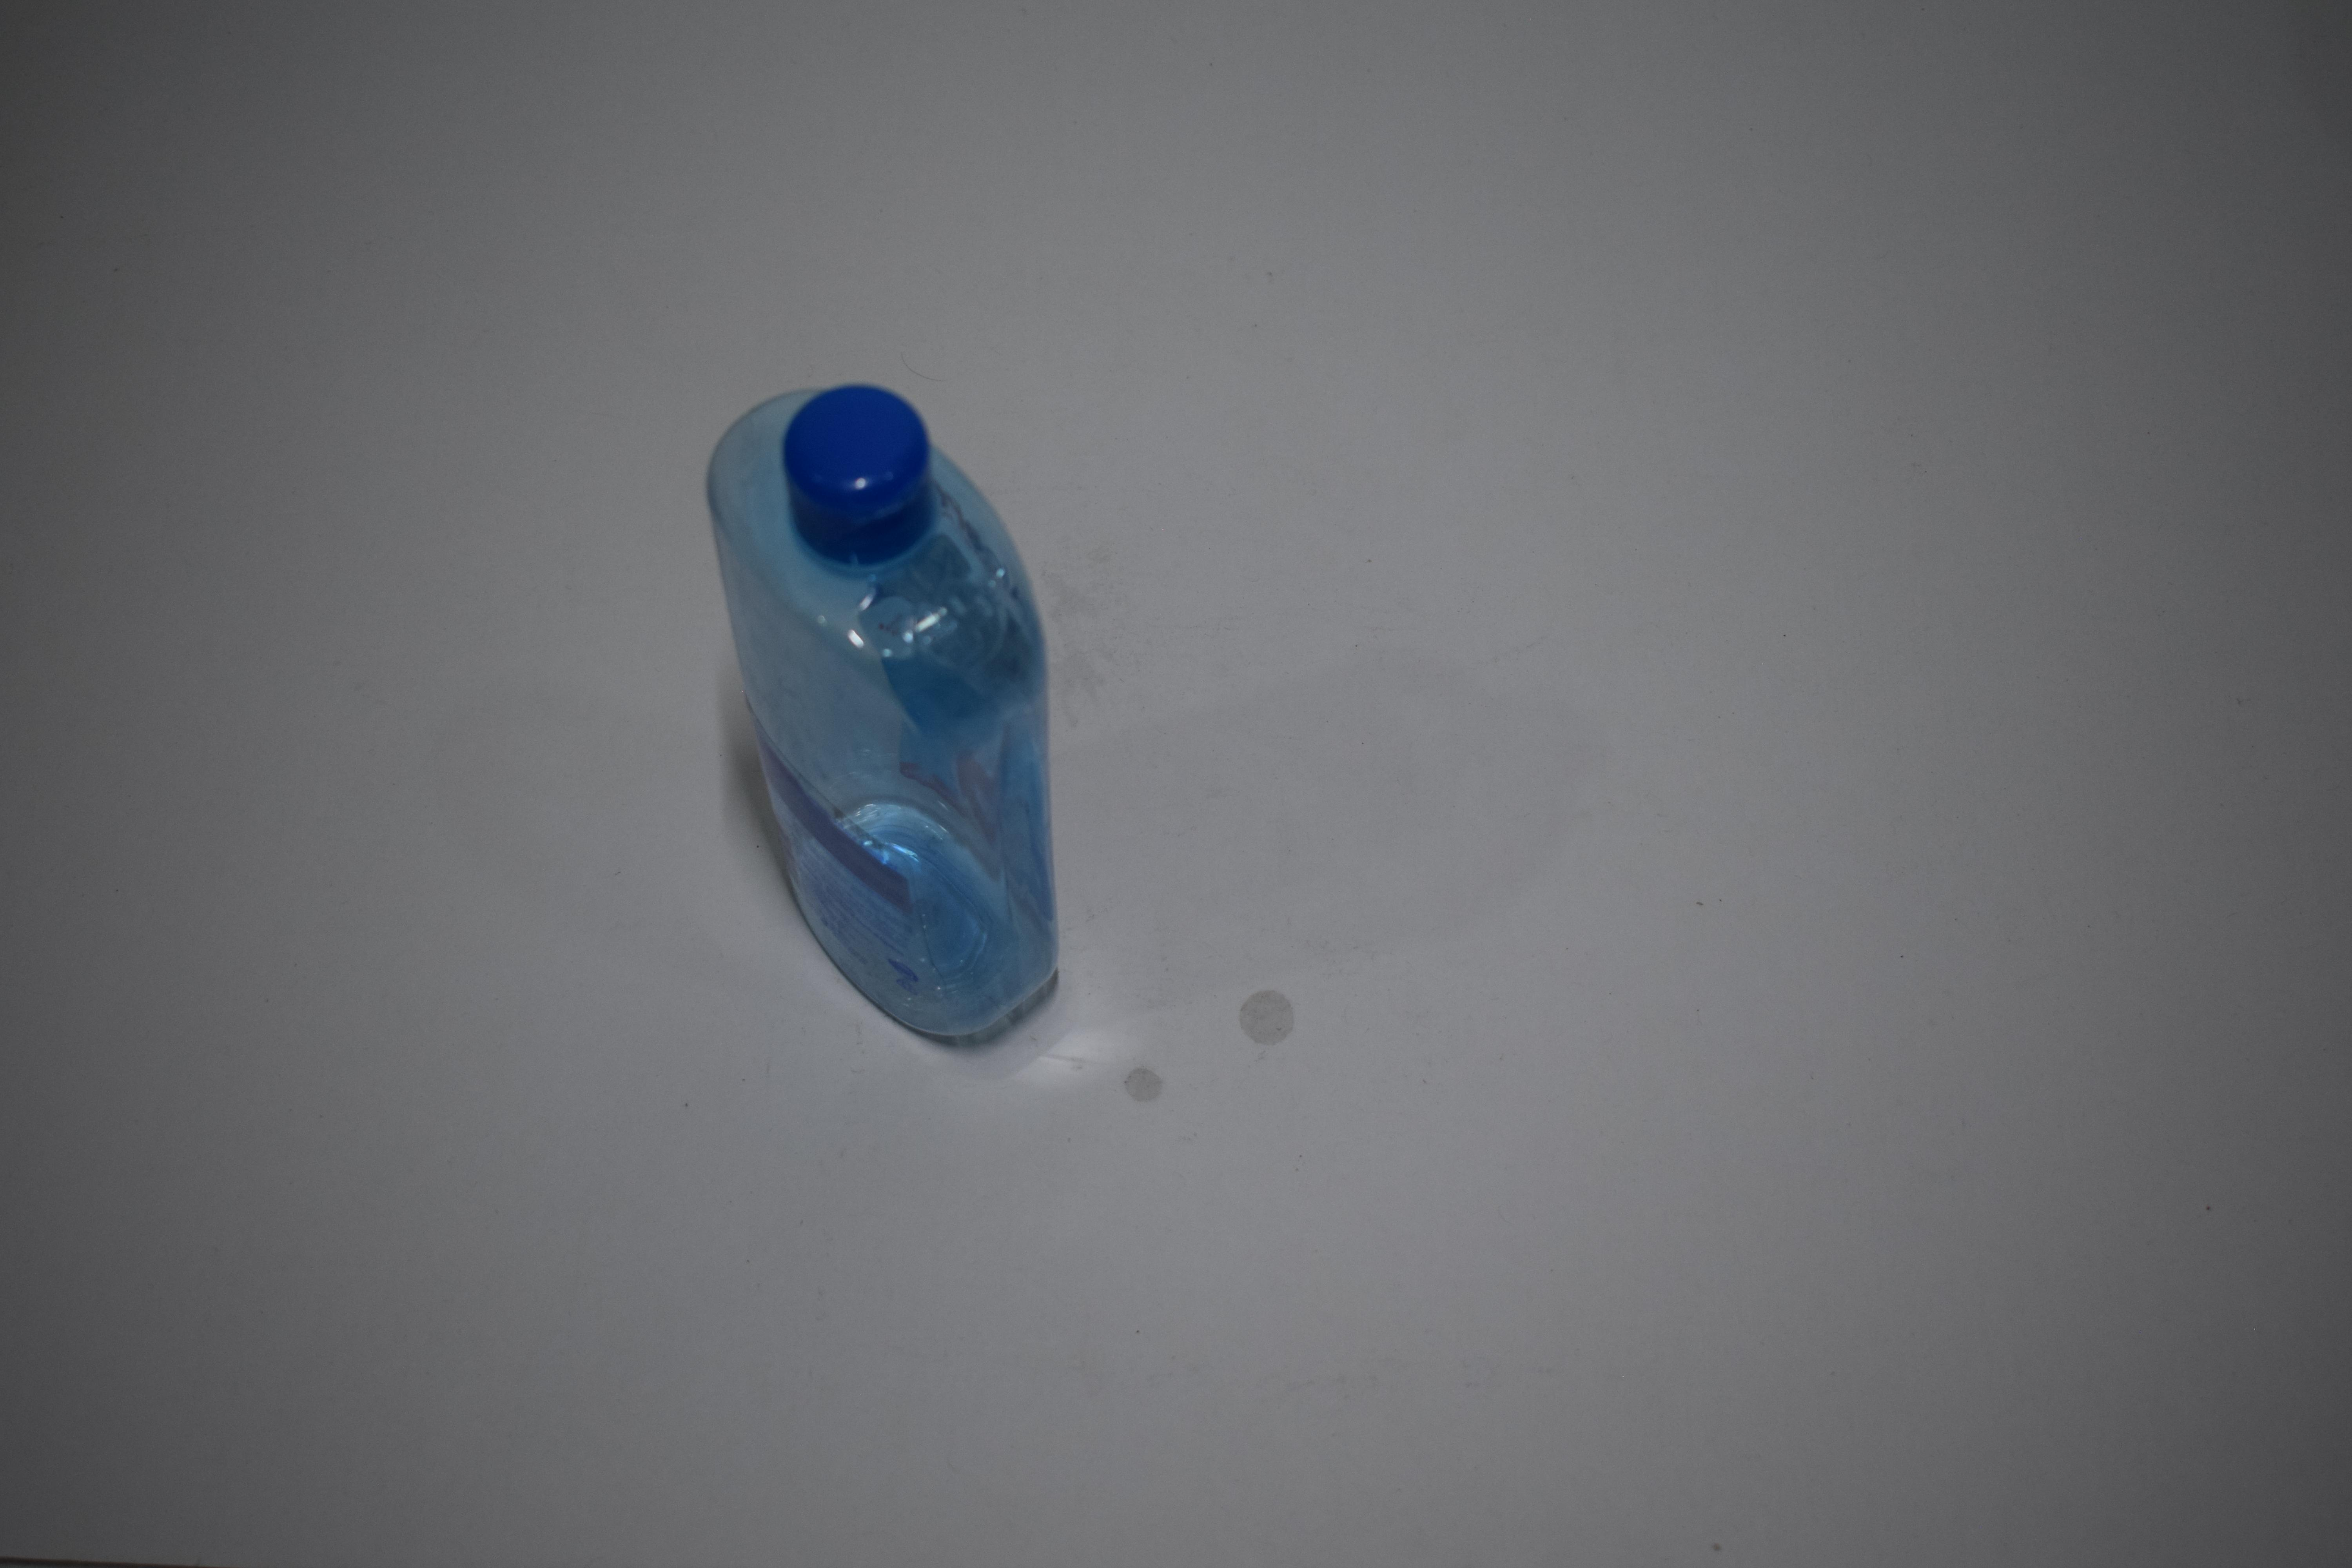bottle: (746, 290, 999, 975)
